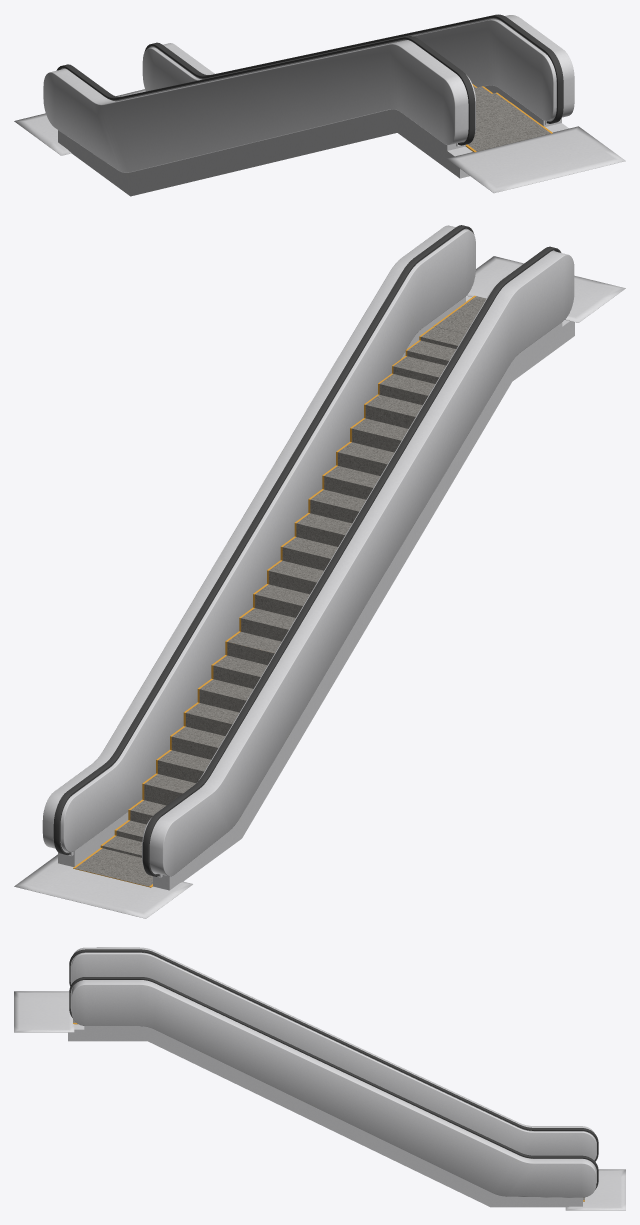
File: Escalator.fbx
3 renders of one model, top to bottom at view 1: azimuth 30°, elevation 25°; view 2: azimuth 150°, elevation 25°; view 3: azimuth 270°, elevation 25°, orthographic. The views are drawn at different scales.
Parts seen in each view (by area): view 1: SMS_Escalator_02; view 2: SMS_Escalator_02; view 3: SMS_Escalator_02.
Boxes of the visible parts, box(x1,y1,x2,y2) form: SMS_Escalator_02: box(14, 14, 625, 196); SMS_Escalator_02: box(14, 225, 625, 918); SMS_Escalator_02: box(14, 947, 625, 1210).
Bounding box in the file's own units: 196 × 502 × 1231.
